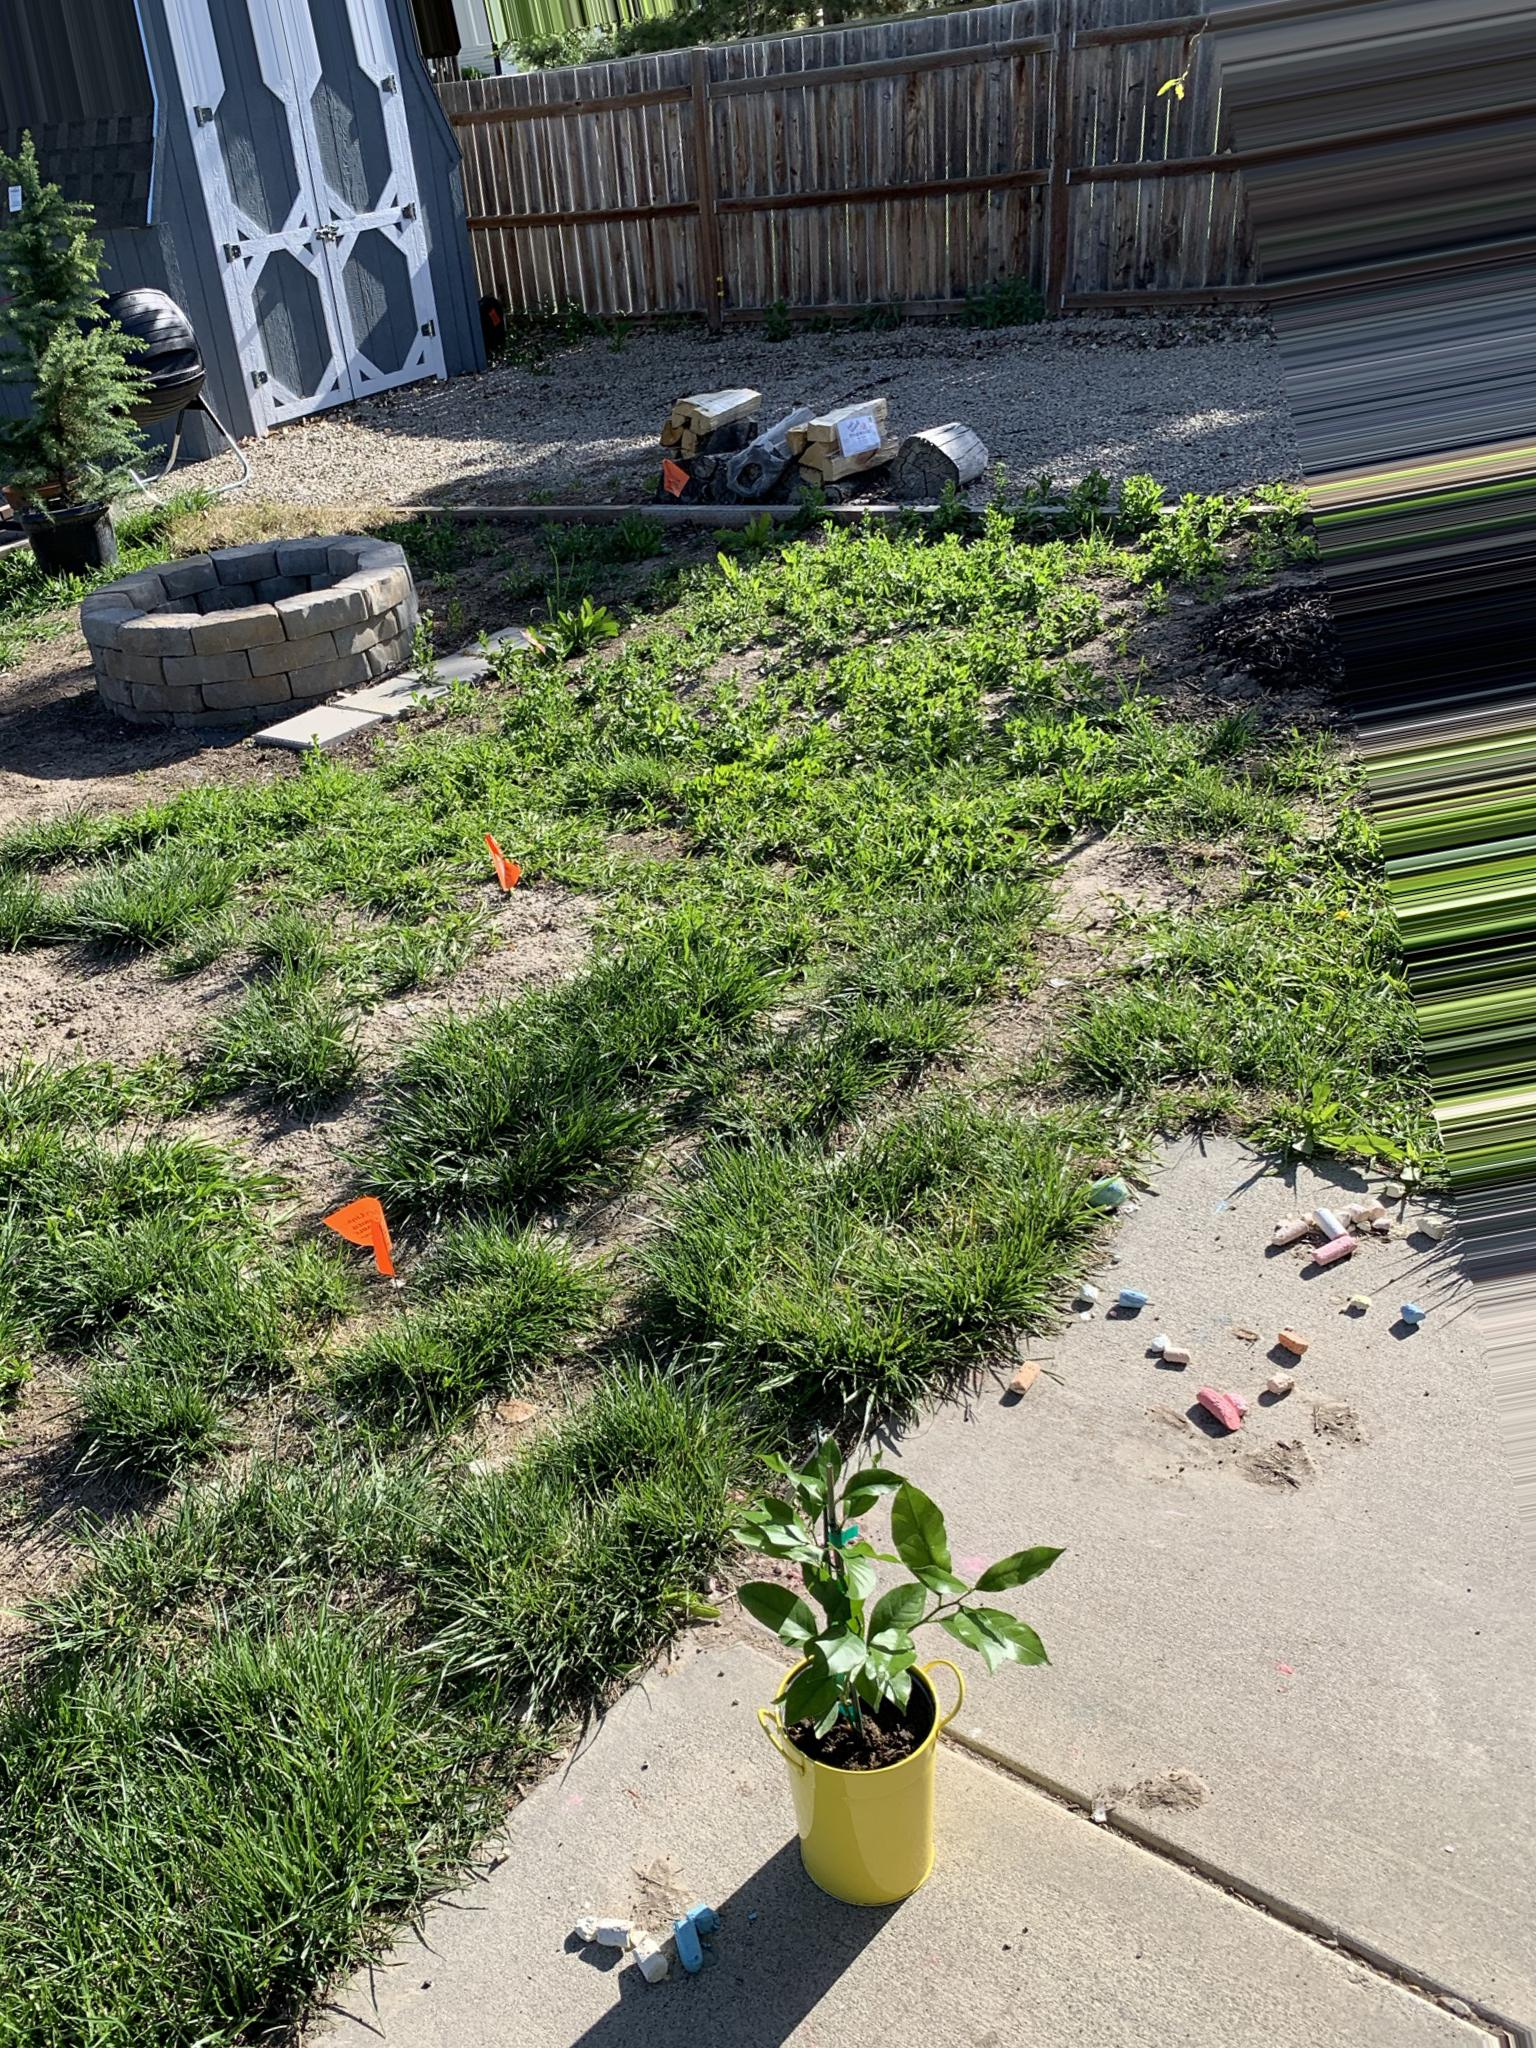patch: (365, 926, 607, 1043), (1096, 851, 1150, 992), (40, 948, 106, 1009)
